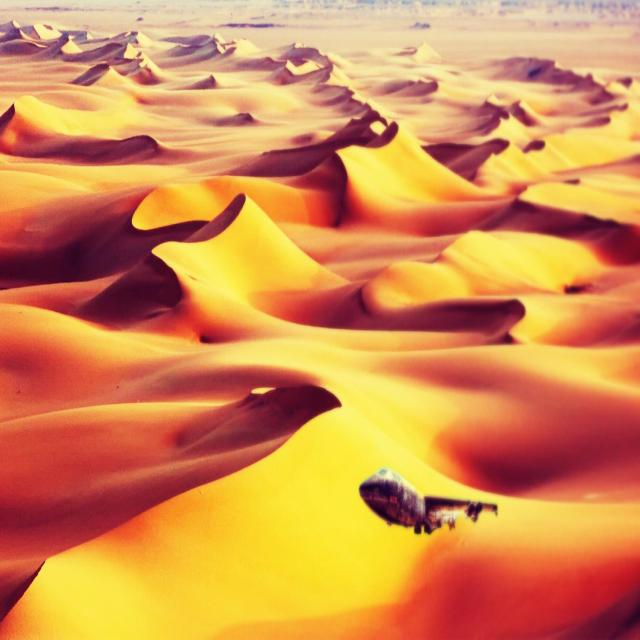airplane: (358, 466, 498, 535)
